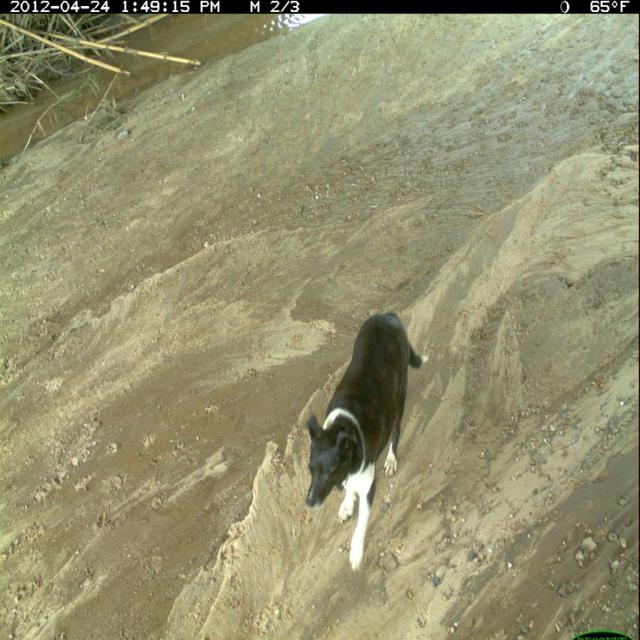dog: (305, 309, 432, 577)
